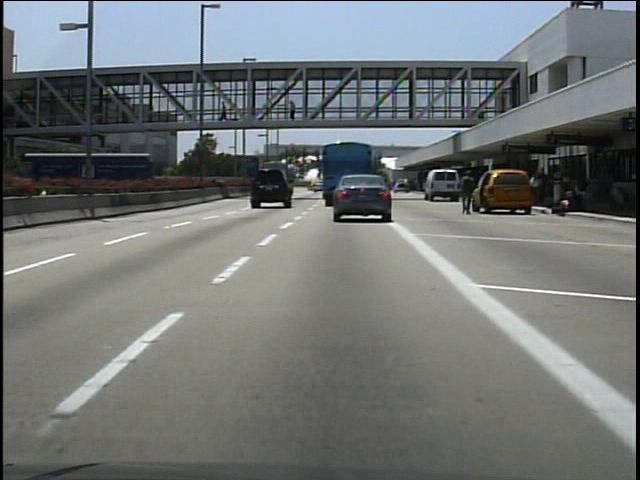person: (457, 168, 480, 220), (287, 99, 302, 127), (217, 97, 233, 123)
